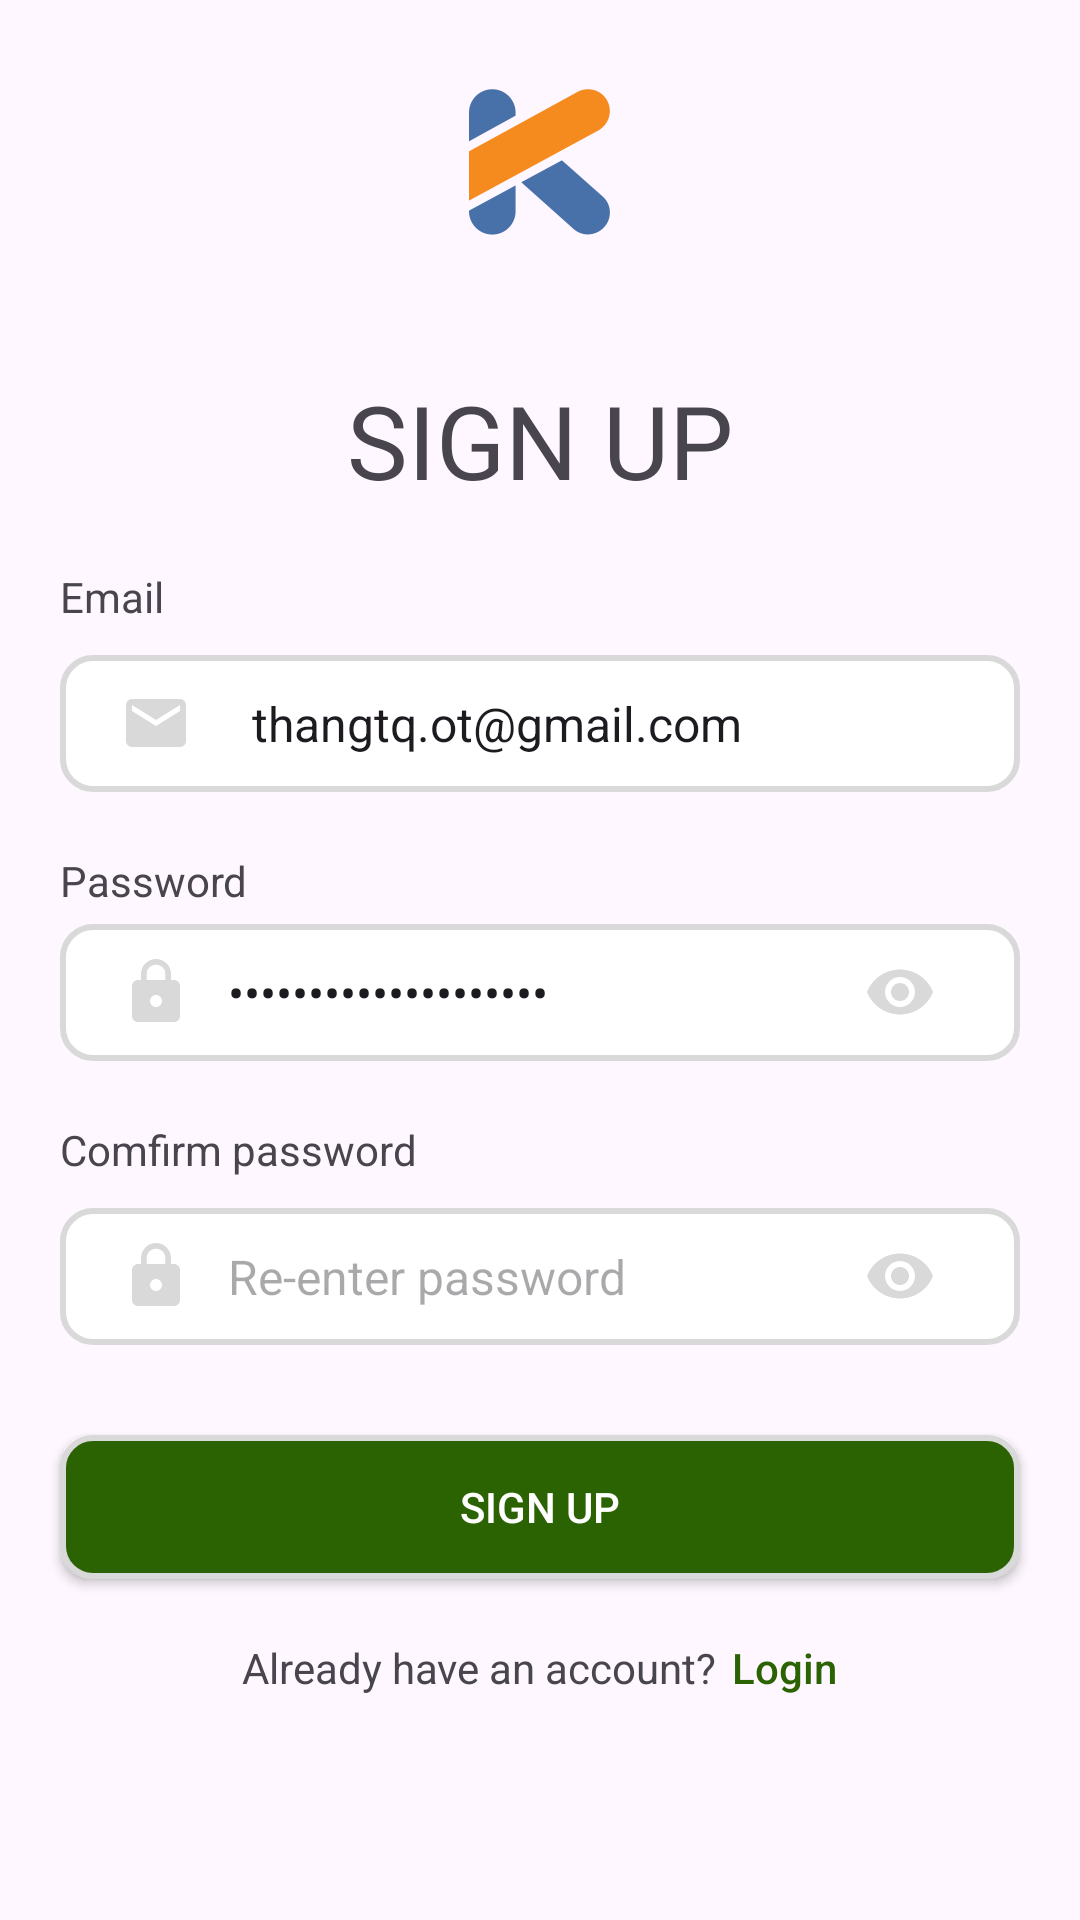

Icons on this 1080×1920 Android screen, each with the point to tap as (x=x, y=y):
Eye Icon: (x=900, y=992), (x=900, y=1276)
lock: (x=156, y=990), (x=156, y=1274)
